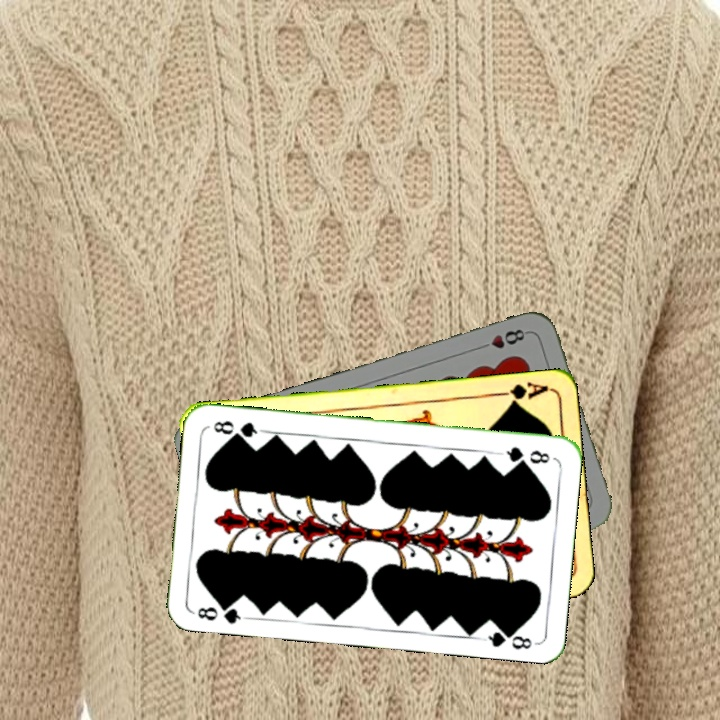G8: (190, 597, 249, 626), (502, 442, 553, 467)
GA: (491, 378, 551, 408)
H8: (474, 325, 531, 353)
